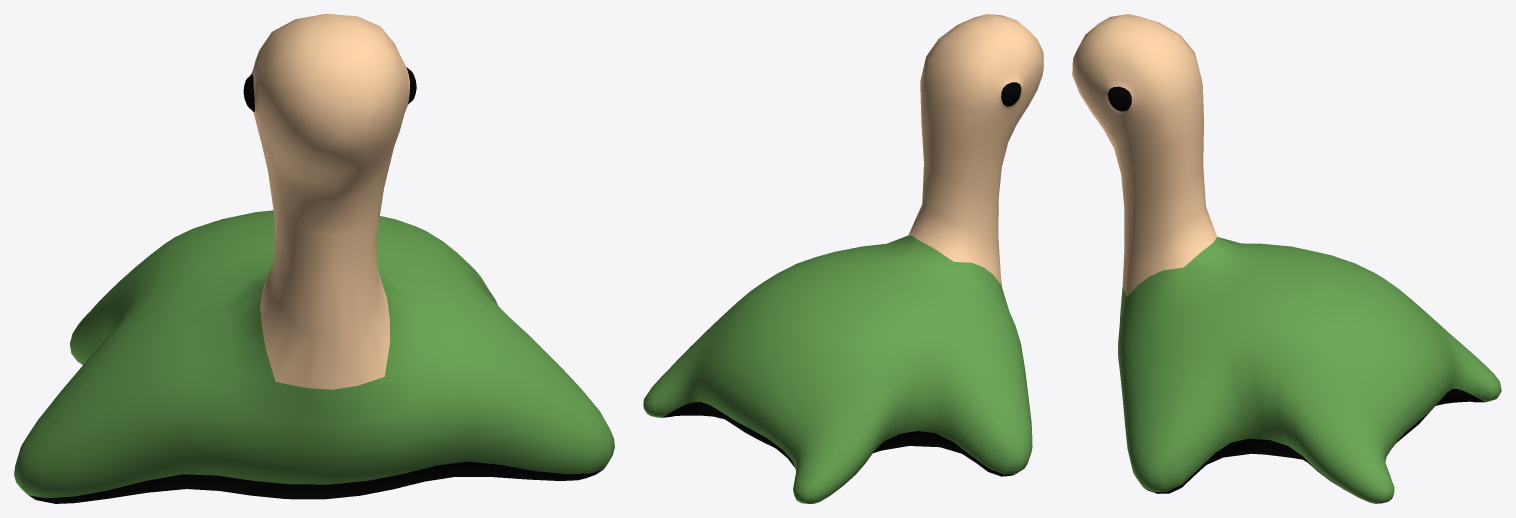
File: ToyObject_013.fbx
3 views of the same model, side by side, from view 1: azimuth 30°, elevation 25°; view 2: azimuth 150°, elevation 25°; view 3: azimuth 270°, elevation 25° (orthographic). The views are drawn at different scales.
Visible parts, largest first — view 1: object-1.013; view 2: object-1.013; view 3: object-1.013.
Part boxes in pixels (x1,y1,x2,y2): object-1.013: (14,14,614,503); object-1.013: (643,14,1043,503); object-1.013: (1072,14,1501,503).
Bounding box in the file's own units: 0.1421 × 0.1436 × 0.1452.
